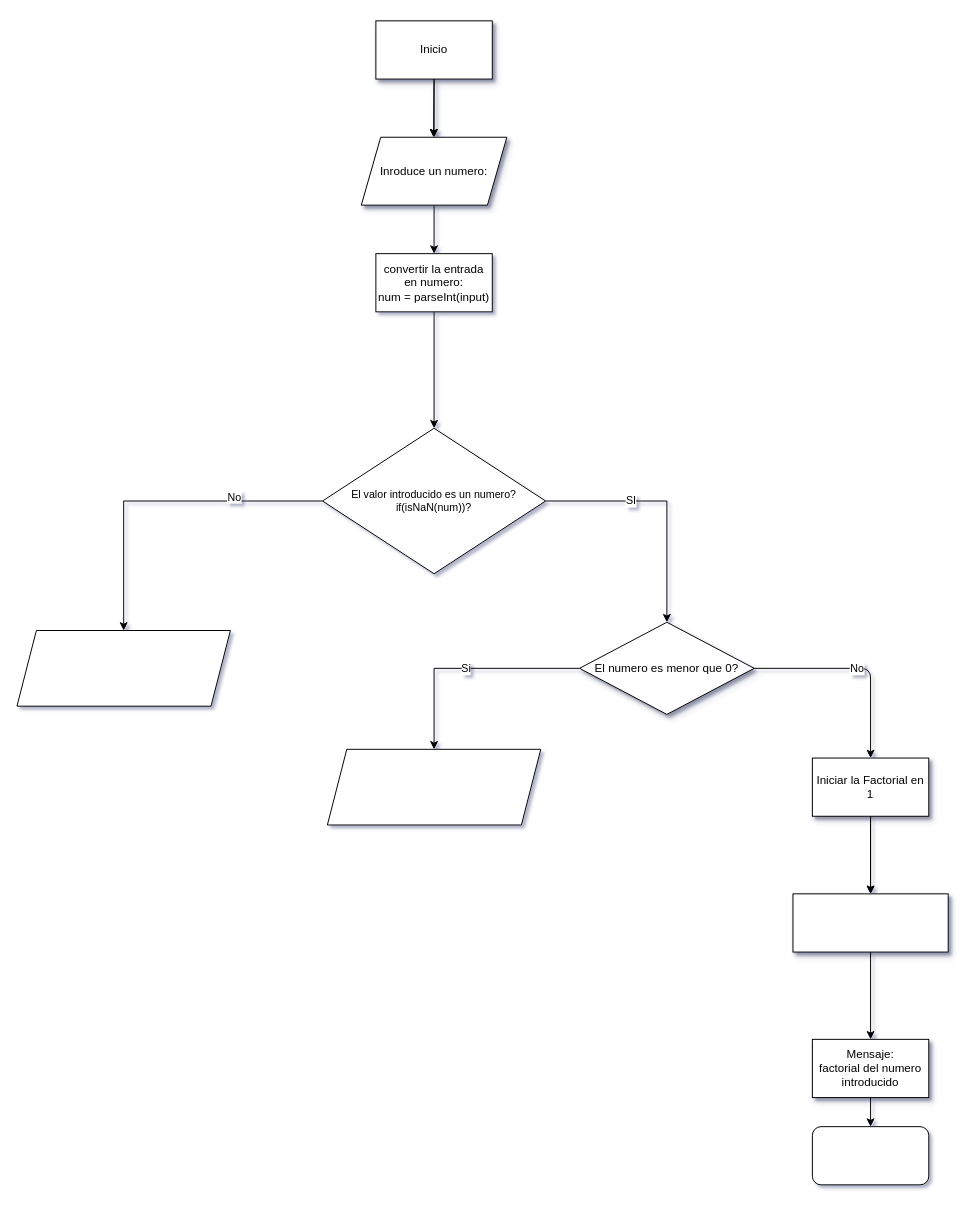
Image size: 977x1208. Some labels were removed from this diagram. The shapes that lost their labels are listed below. From the top down, each one's centre as x and y in pixels, then its label:
At (123,668): "Mensaje: Por favor, introduce un numero valido".
At (433,786): "Mensaje: Factorial no esta definido para numero negativos.".
At (871,924): "incrementar el contador: Bucle for let i = 1 <= num; i++".
At (870,1155): "Fin".
